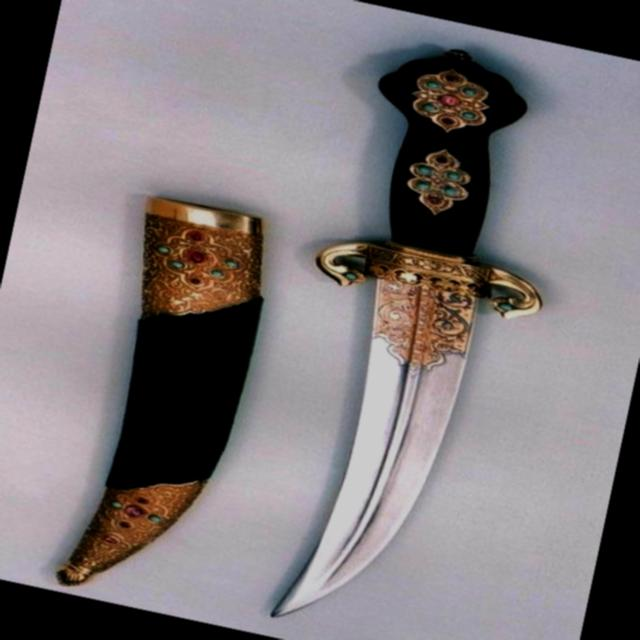short sword: (248, 17, 603, 640)
